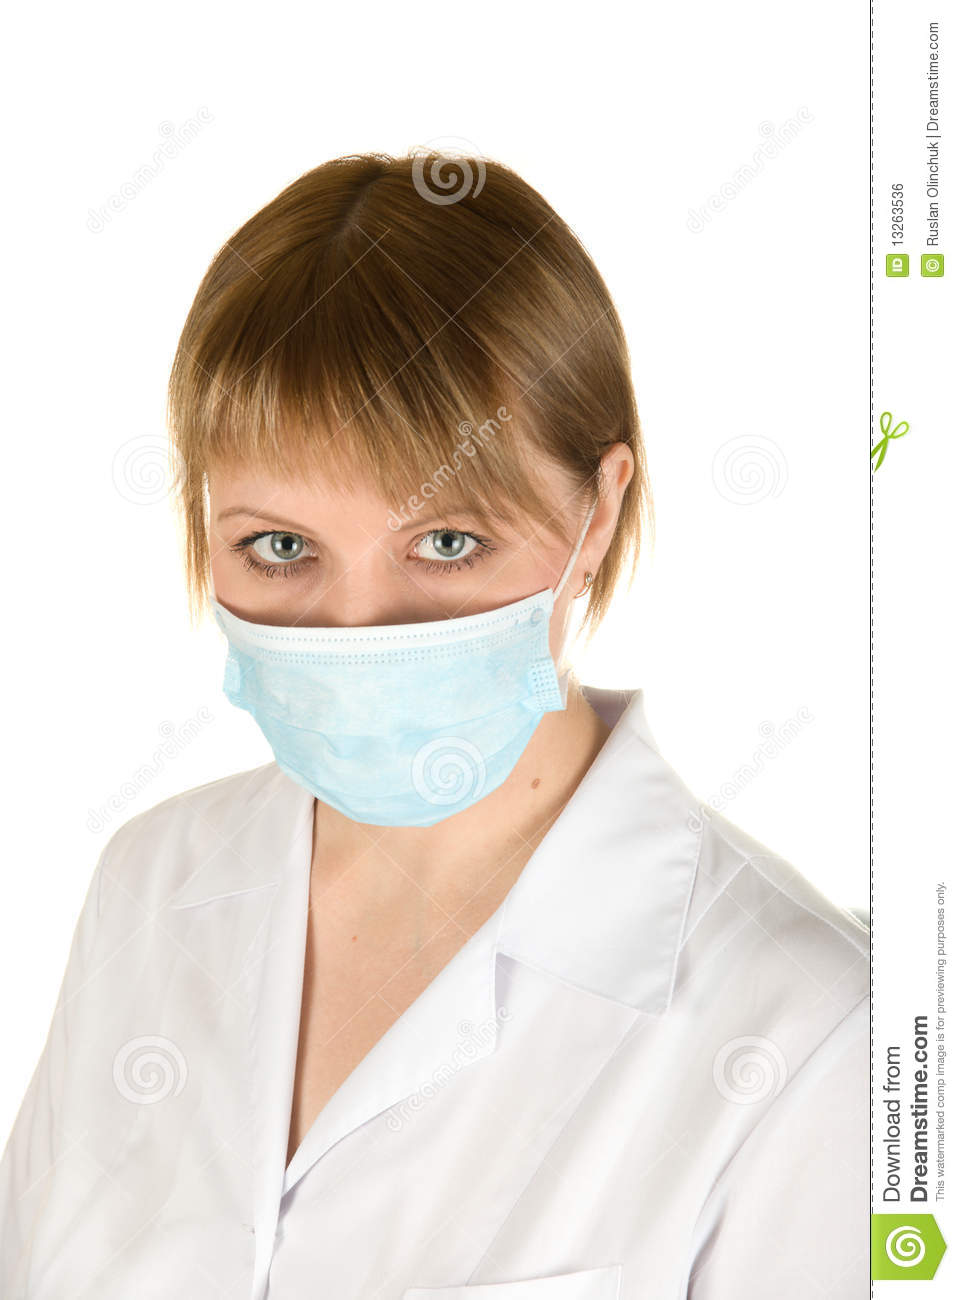mask: (215, 600, 571, 835)
